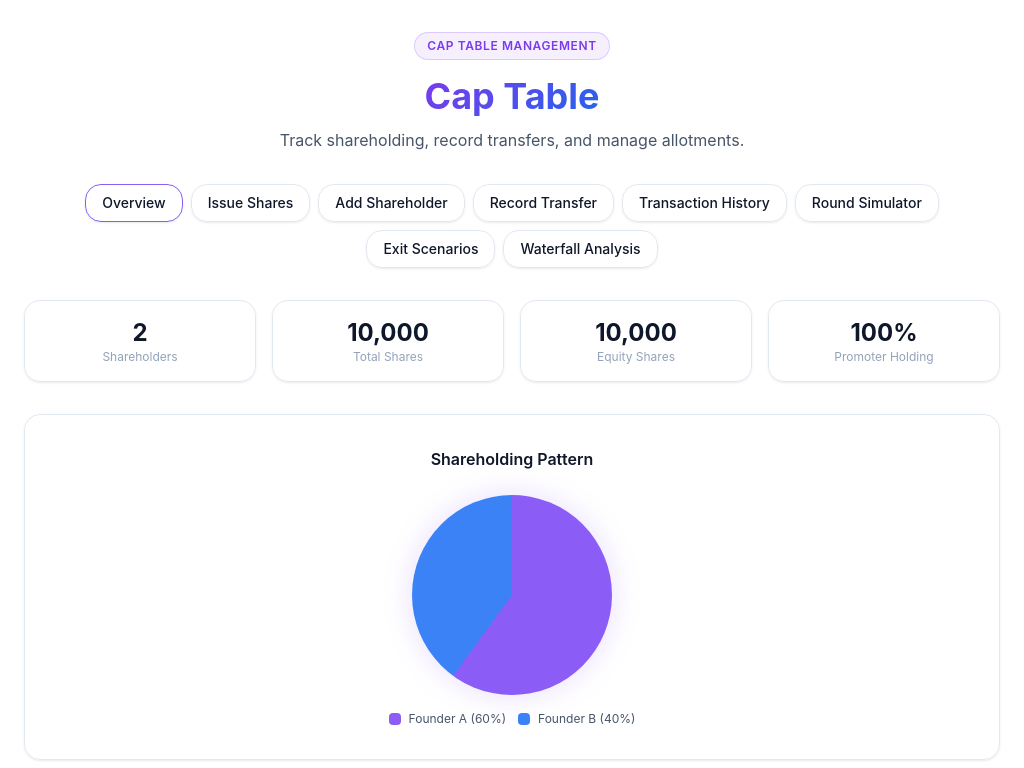
Test: CapTablePage › renders add shareholder form
Expected: the button "Overview" is shown, [85,184,183,222]
Step 1. Click the button "Add Shareholder" → {"x": 391, "y": 203}, box [318,184,465,222]
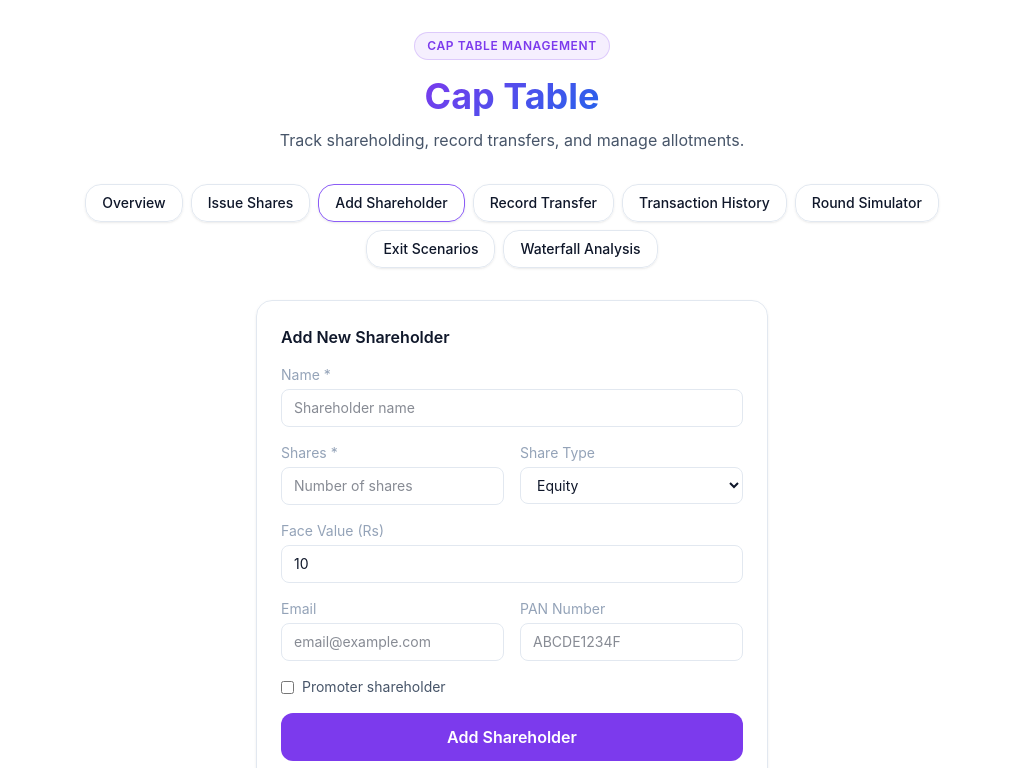
Expected: the heading "Add New Shareholder" is shown, [281,327,450,347]
Expected: the field with placeholder "Shareholder name" is shown, [281,389,743,427]
